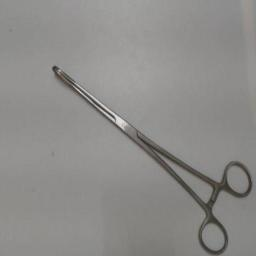Sponge Forceps: (46, 61, 254, 255)
